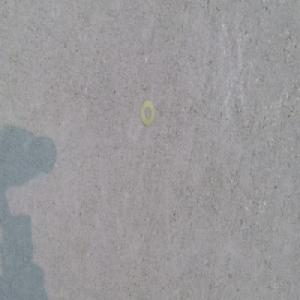Washer: (140, 103, 155, 131)
